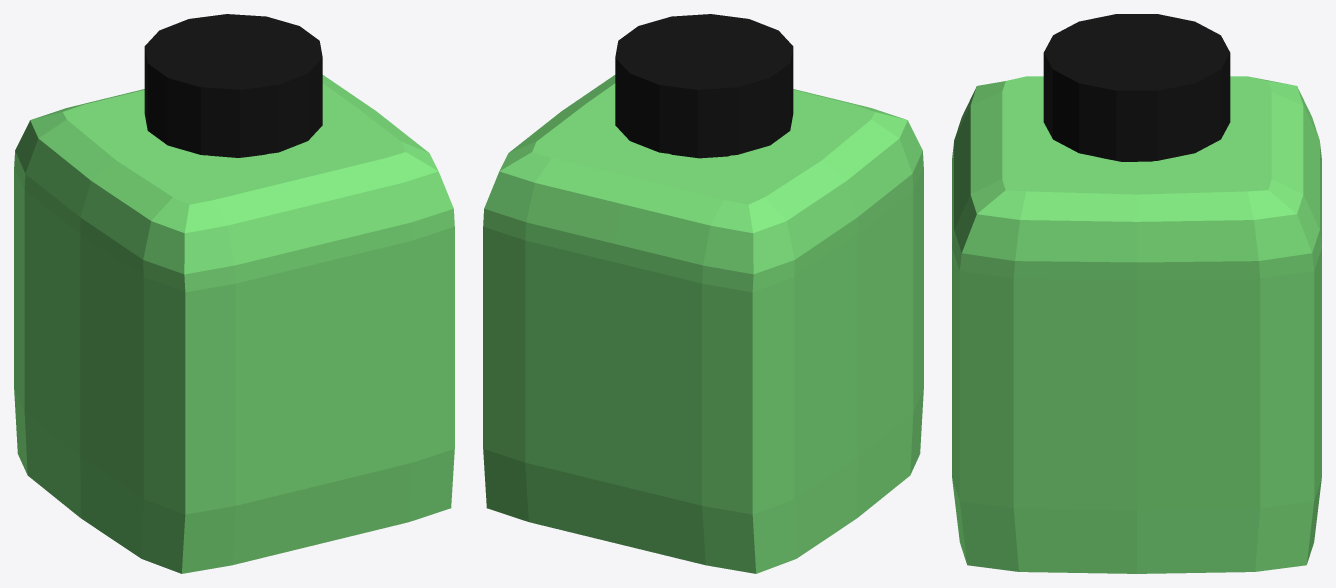
The model's file is Alcohol bottle.fbx.
3 renders of one model, left to right at view 1: azimuth 30°, elevation 25°; view 2: azimuth 150°, elevation 25°; view 3: azimuth 270°, elevation 25°, orthographic. The views are drawn at different scales.
Visible parts, largest first — view 1: Cylinder; view 2: Cylinder; view 3: Cylinder.
Boxes of the visible parts, bbox=[...] form: Cylinder: bbox=[14, 14, 454, 573]; Cylinder: bbox=[483, 14, 923, 573]; Cylinder: bbox=[952, 14, 1321, 573].
Size of the model in its own units: 198 by 265 by 200.
